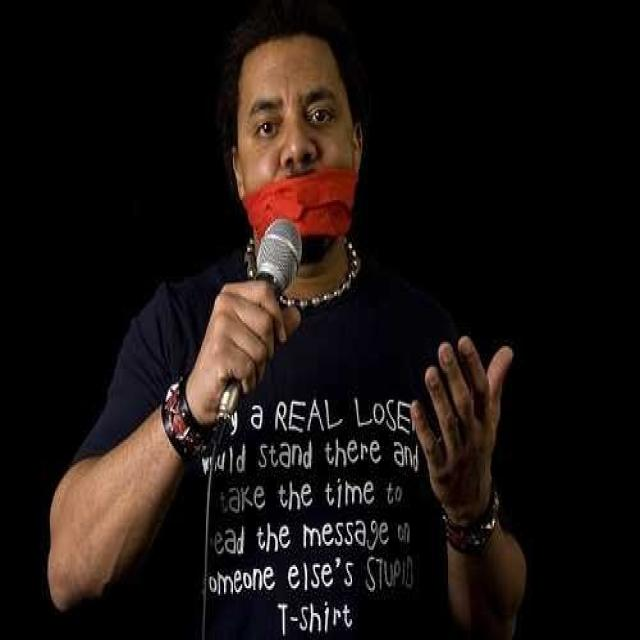microphone: (215, 212, 307, 432)
